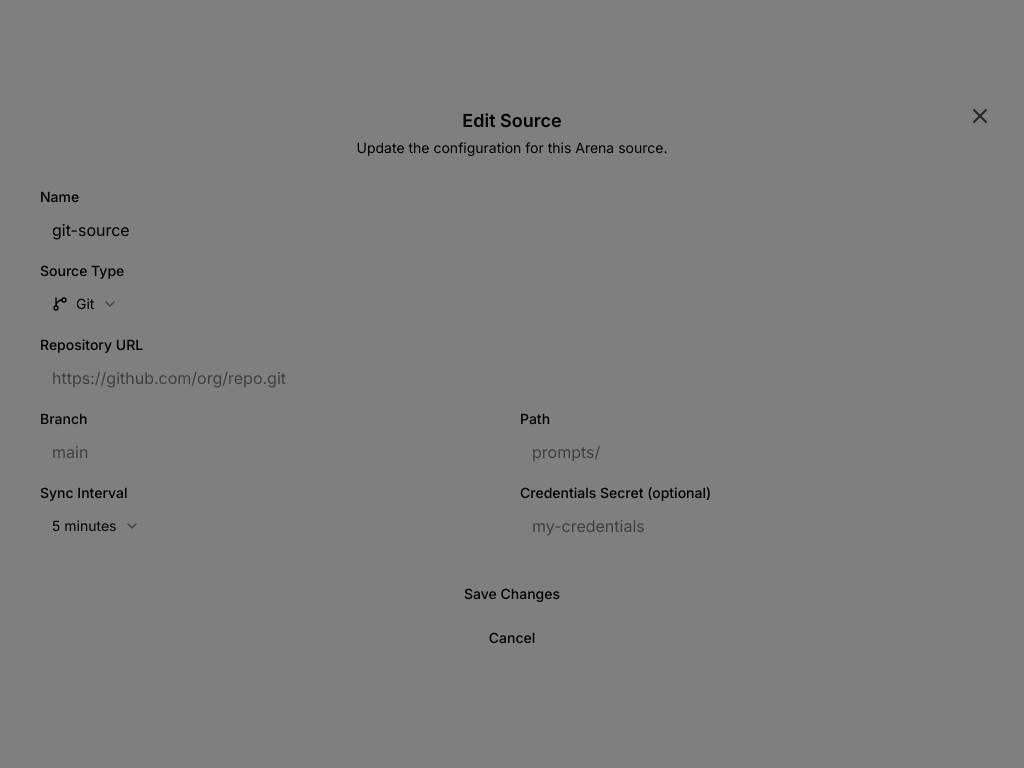
Test case: SourceDialog - Validation Errors › shows validation error when git URL is empty
The width and height of the screenshot is (1024, 768).
Click the button "Save Changes". click: click(512, 594)
box: left=40, top=576, right=984, bottom=612
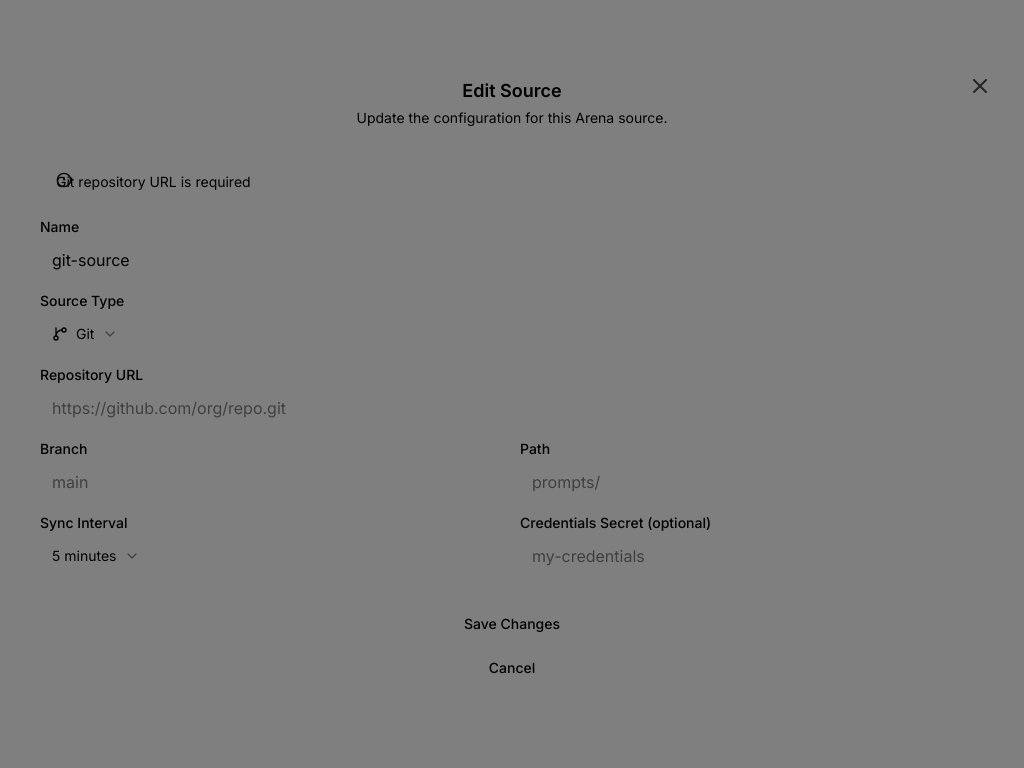
expect the text "Git repository URL is required" is shown: met, box left=56, top=173, right=251, bottom=190
